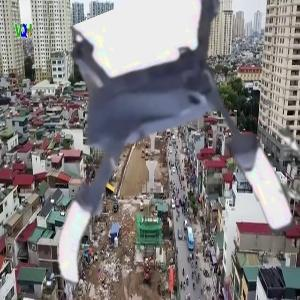drone: (6, 8, 291, 293)
